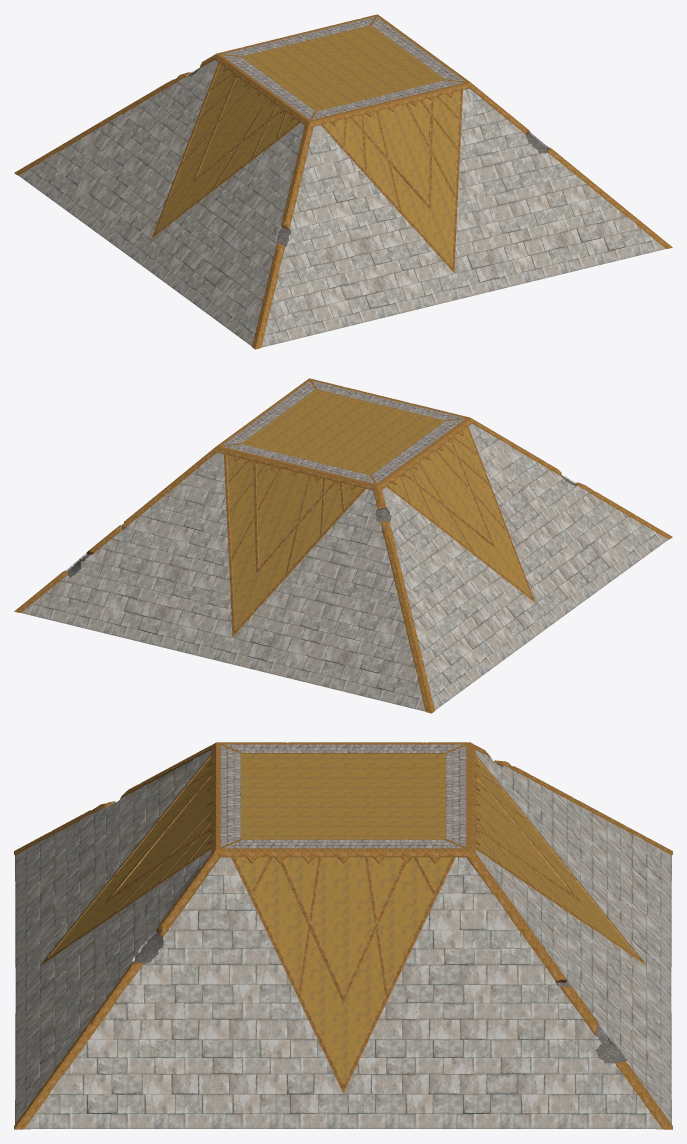
The picture shows the model from 3 angles, top to bottom: view 1: azimuth 30°, elevation 25°; view 2: azimuth 150°, elevation 25°; view 3: azimuth 270°, elevation 25°; orthographic projection. The views are drawn at different scales.
Visible parts, largest first — view 1: SM_DK_Pyramid_Middle_01v1_LOD0; view 2: SM_DK_Pyramid_Middle_01v1_LOD0; view 3: SM_DK_Pyramid_Middle_01v1_LOD0.
Part boxes in pixels (x1,y1,x2,y2): SM_DK_Pyramid_Middle_01v1_LOD0: (14,14,672,349); SM_DK_Pyramid_Middle_01v1_LOD0: (14,378,672,713); SM_DK_Pyramid_Middle_01v1_LOD0: (14,742,672,1129).
Size of the model in its own units: 114 by 37.22 by 114.
5 materials, 5 textured.
